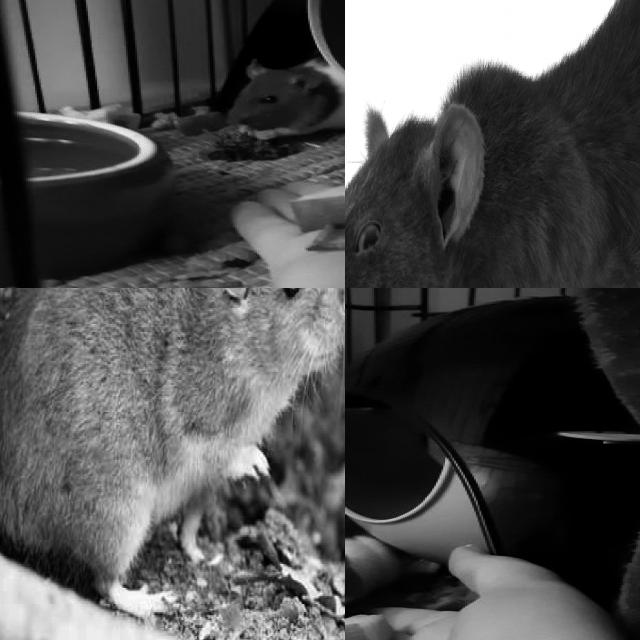rat: (0, 288, 345, 624), (345, 0, 640, 288), (219, 56, 345, 138), (345, 533, 395, 640)
